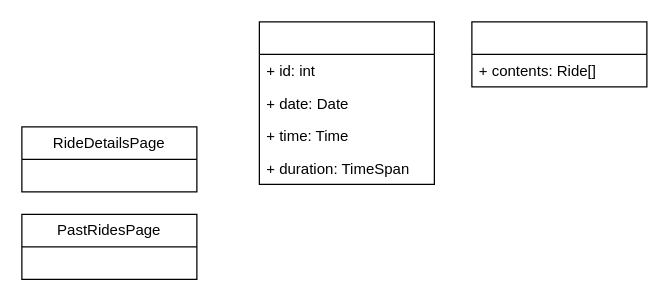
The diagram is 669 pixels wide and 301 high, and some of its shapes have lost their labels. The box of each missing label's shape, as (x1, y1, x2, y2) in pixels:
Ride: (258, 21, 434, 184)
RideHistory: (471, 21, 647, 87)
